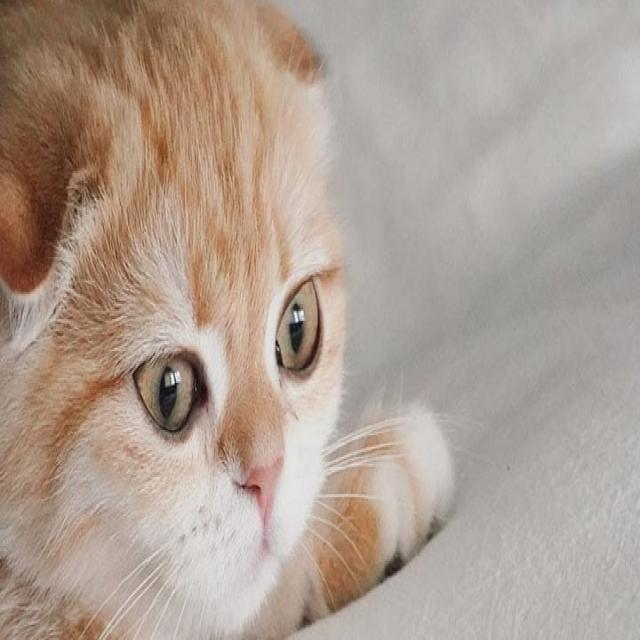Scottish Fold: (0, 0, 461, 640)
